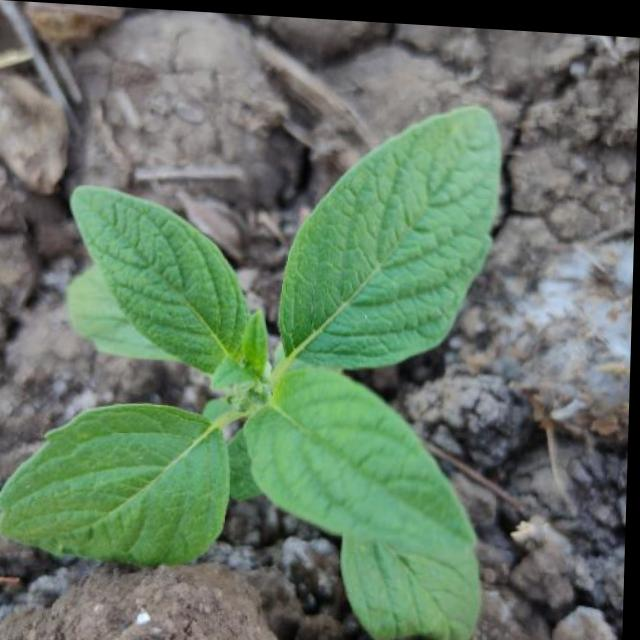crop: (0, 66, 523, 640)
